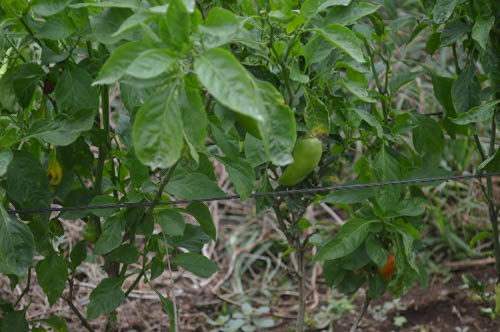ChiliPepper: (279, 141, 323, 186)
